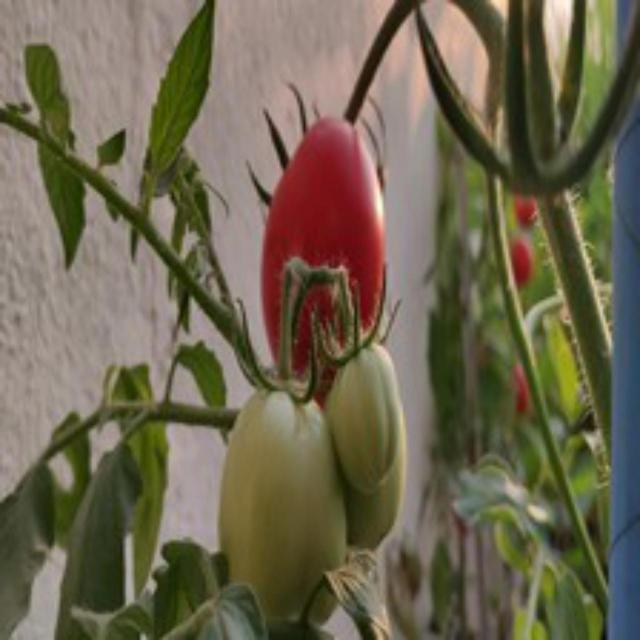tomato: (243, 106, 404, 394)
